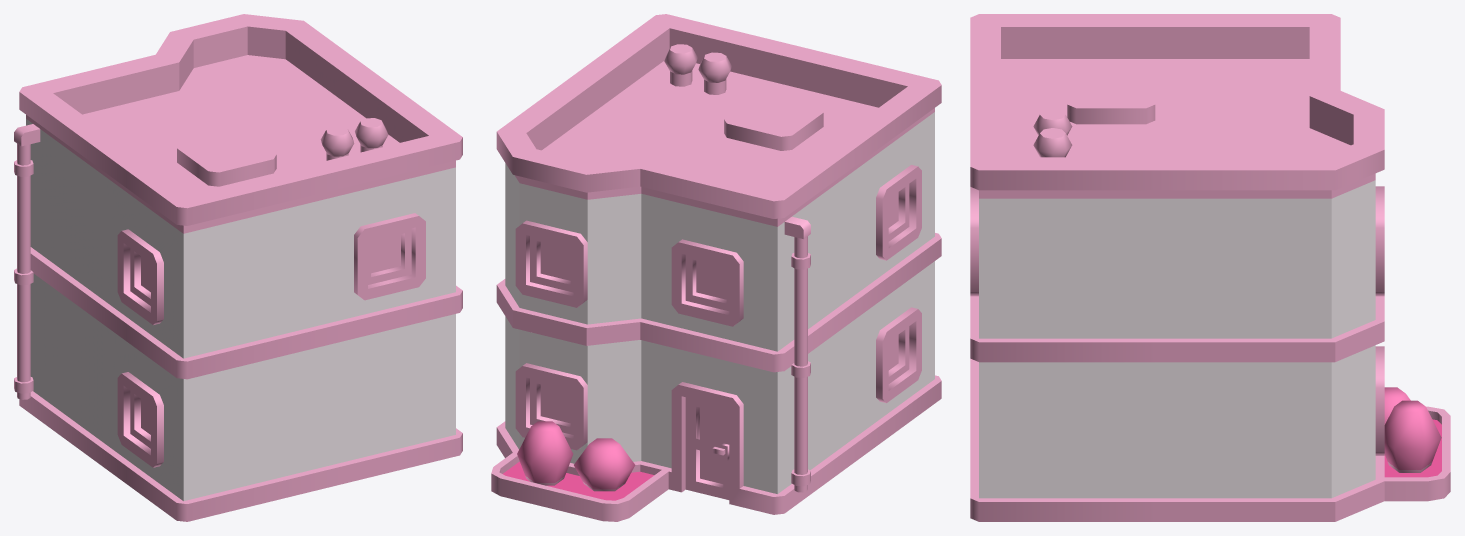
Rendered from building_c.obj.
The picture shows the model from 3 angles, left to right: view 1: azimuth 30°, elevation 25°; view 2: azimuth 150°, elevation 25°; view 3: azimuth 270°, elevation 25°; orthographic projection. The views are drawn at different scales.
Visible parts, largest first — view 1: building-c; view 2: building-c; view 3: building-c.
Part boxes in pixels (bbox=[...]): building-c: bbox=[14, 14, 462, 521]; building-c: bbox=[491, 14, 941, 521]; building-c: bbox=[970, 14, 1450, 521].
Bounding box in the file's own units: 17.67 × 17.86 × 21.8.
Materials: 1 (1 with a texture image).
